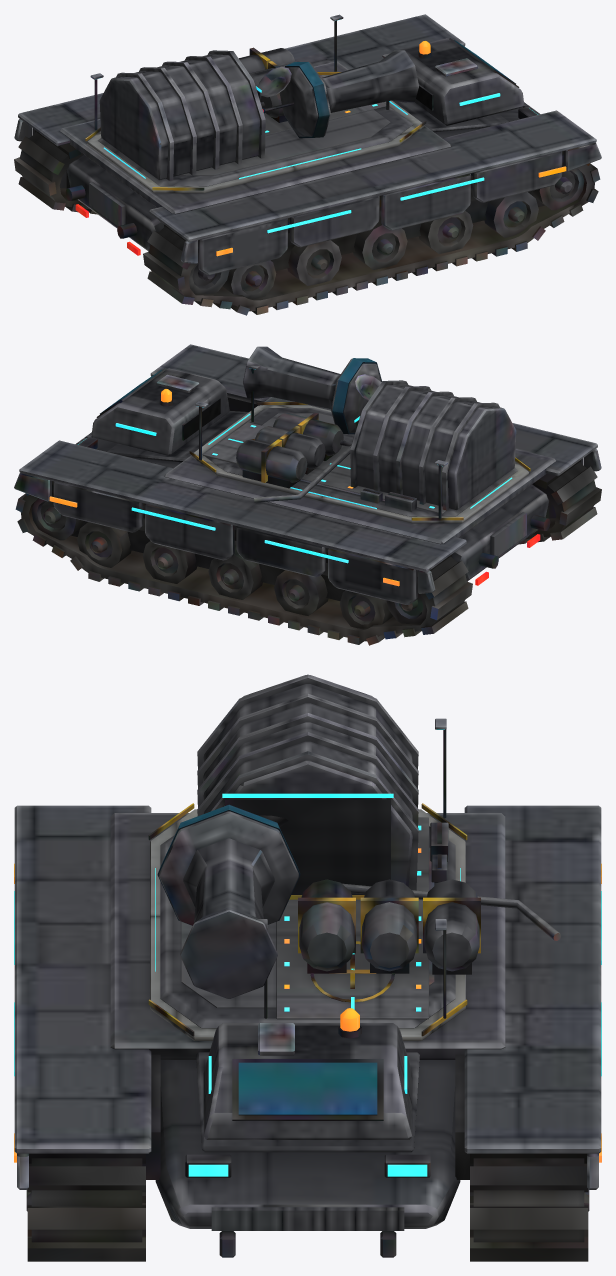
Rendered from air_base_packed.glb.
The picture shows the model from 3 angles, top to bottom: view 1: azimuth 30°, elevation 25°; view 2: azimuth 150°, elevation 25°; view 3: azimuth 270°, elevation 25°; orthographic projection. The views are drawn at different scales.
Parts seen in each view (by area): view 1: Hull; view 2: Hull; view 3: Hull.
Part boxes in pixels (bbox=[...]): Hull: bbox=[14, 14, 601, 315]; Hull: bbox=[14, 344, 601, 645]; Hull: bbox=[14, 674, 601, 1261].
Size of the model in its own units: 6.54 by 2.74 by 4.47.
1 material, 1 textured.
